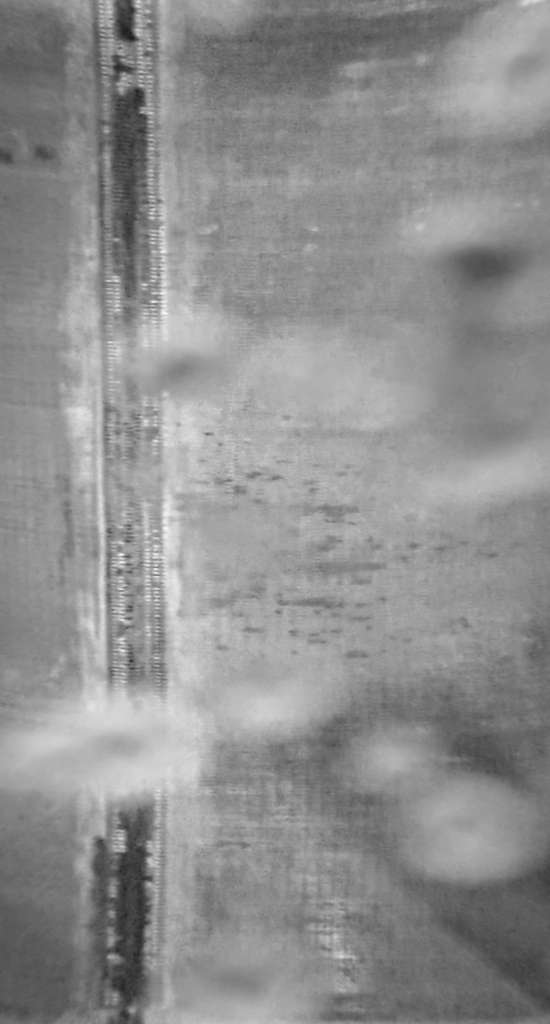splice: (82, 1, 177, 1024)
